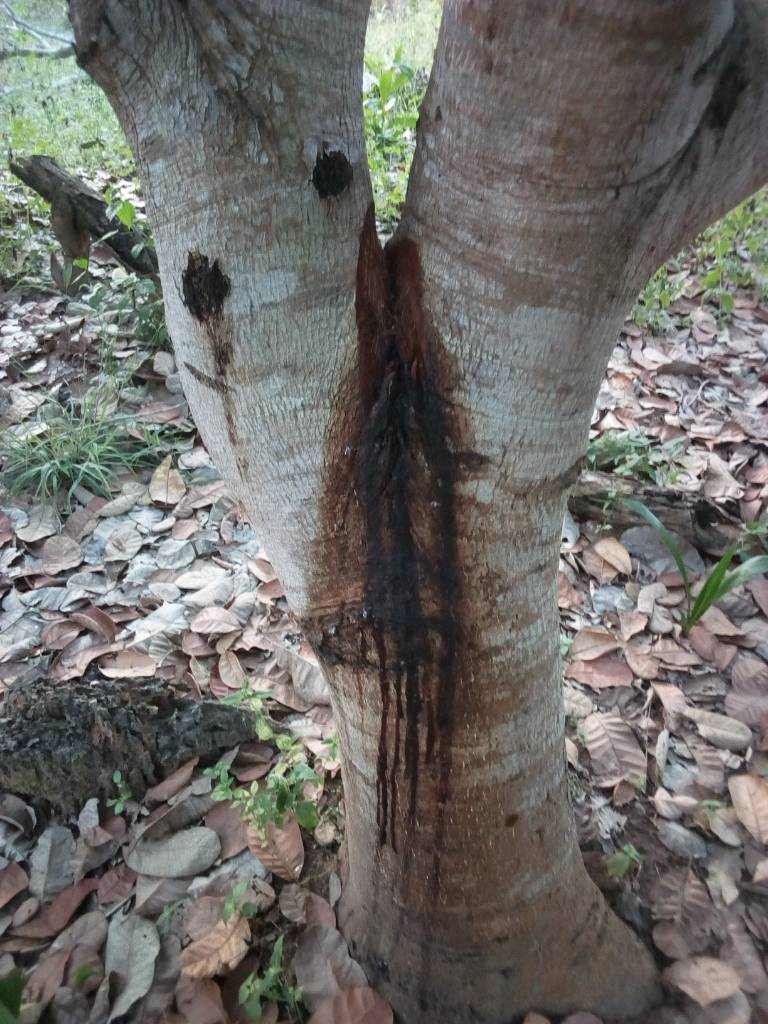Gommose: (343, 349, 460, 847)
